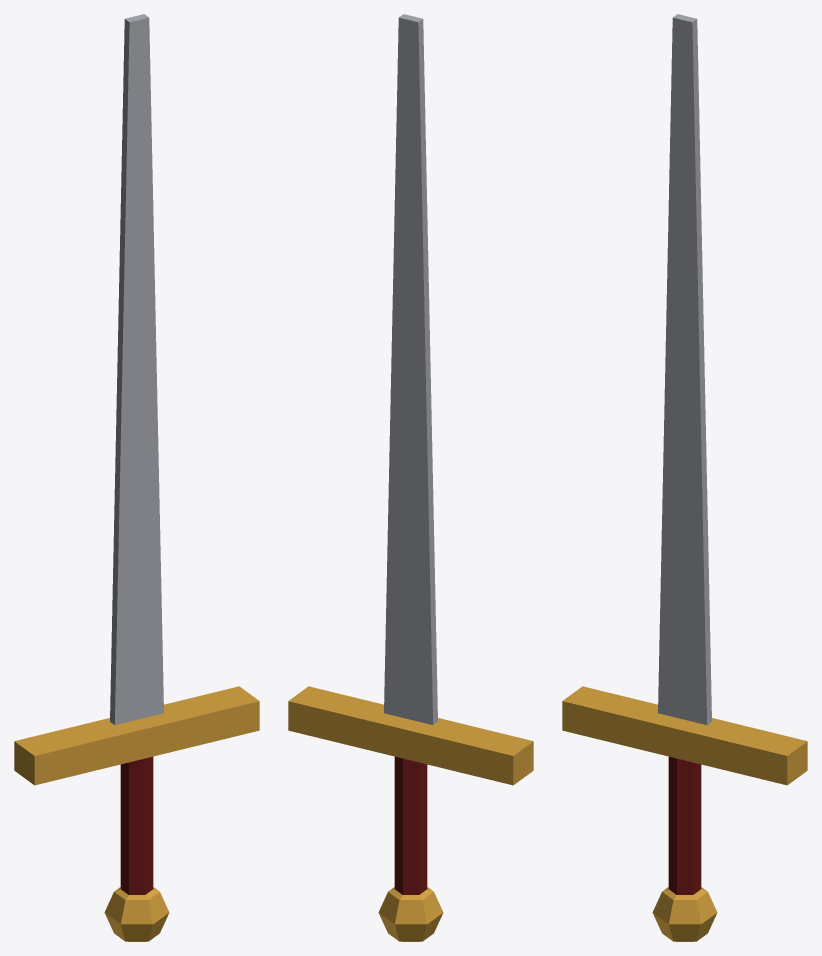
File: wpn_blade.glb
3 renders of one model, left to right at view 1: azimuth 30°, elevation 25°; view 2: azimuth 150°, elevation 25°; view 3: azimuth 330°, elevation 25°, orthographic.
Visible parts, largest first — view 1: wpn_blade; view 2: wpn_blade; view 3: wpn_blade.
Part boxes in pixels (x1=…): wpn_blade: x1=14, y1=14, x2=259, y2=941; wpn_blade: x1=288, y1=14, x2=533, y2=941; wpn_blade: x1=562, y1=14, x2=807, y2=941.
Size of the model in its own units: 0.32 by 1.26 by 0.08.
